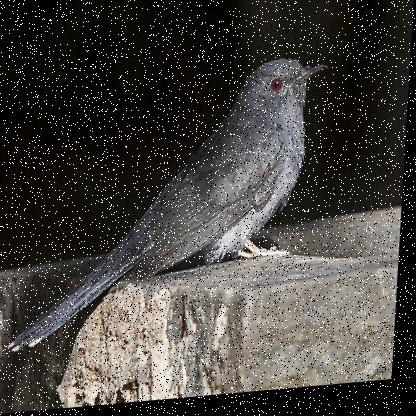Burung: (12, 59, 329, 352)
